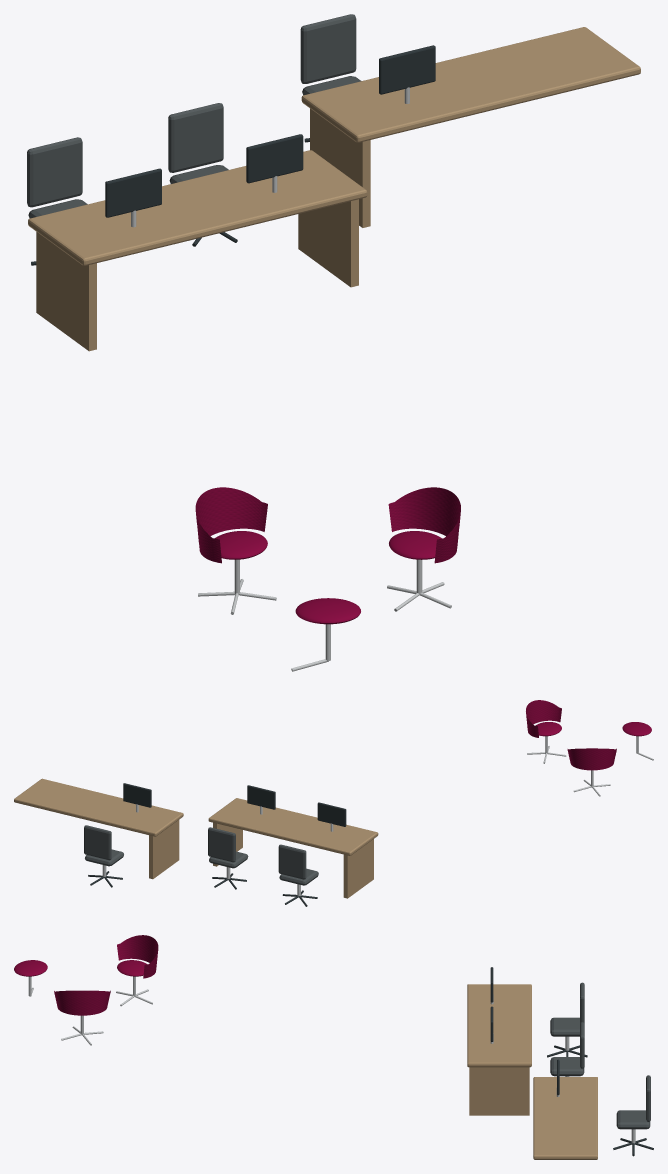
Rendered from SM_L2_Furniture_Solid_139d210685_0.fbx.
The picture shows the model from 3 angles, top to bottom: view 1: azimuth 30°, elevation 25°; view 2: azimuth 150°, elevation 25°; view 3: azimuth 270°, elevation 25°; orthographic projection. The views are drawn at different scales.
Parts seen in each view (by area): view 1: SM_L2_Furniture_Solid_139d210685_0; view 2: SM_L2_Furniture_Solid_139d210685_0; view 3: SM_L2_Furniture_Solid_139d210685_0.
Boxes of the visible parts, x1=… form: SM_L2_Furniture_Solid_139d210685_0: x1=27, y1=14, x2=640, y2=671; SM_L2_Furniture_Solid_139d210685_0: x1=14, y1=700, x2=653, y2=906; SM_L2_Furniture_Solid_139d210685_0: x1=14, y1=935, x2=653, y2=1159.
Size of the model in its own units: 6.97 by 8.5 by 1.22.
